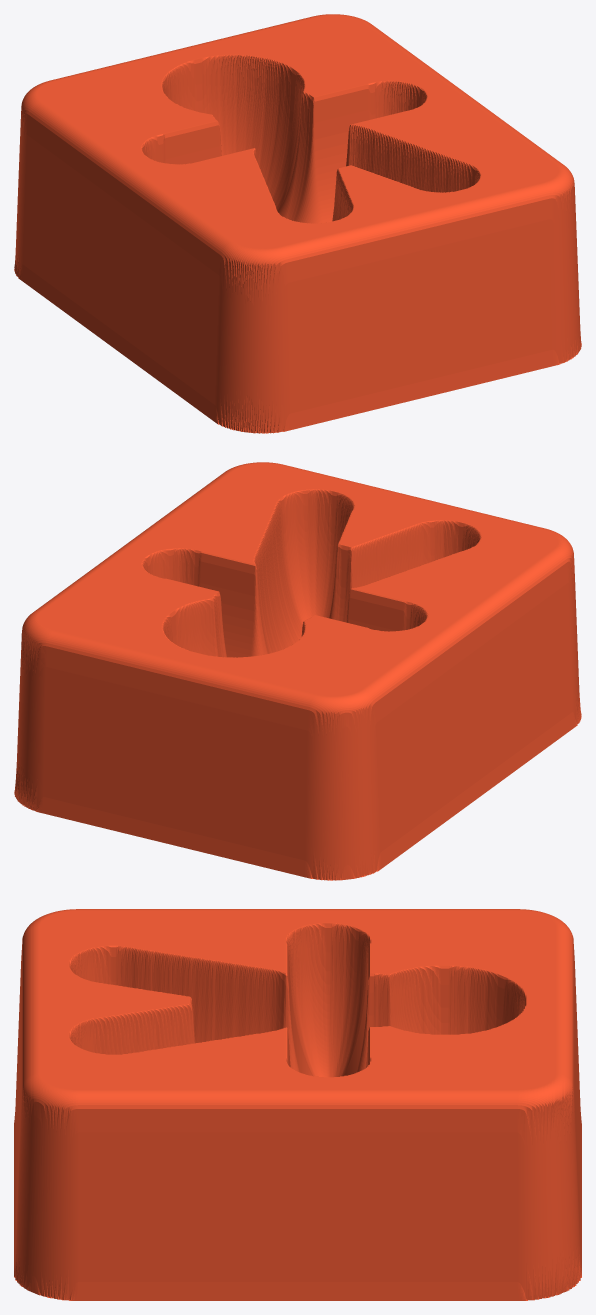
Rendered from mold.glb.
3 views of the same model, one above another, from view 1: azimuth 30°, elevation 25°; view 2: azimuth 150°, elevation 25°; view 3: azimuth 270°, elevation 25° (orthographic). The views are drawn at different scales.
Visible parts, largest first — view 1: geometry_0; view 2: geometry_0; view 3: geometry_0.
Part boxes in pixels (x1,y1,x2,y2): geometry_0: (14,14,581,433); geometry_0: (14,462,581,880); geometry_0: (14,909,581,1300).
Bounding box in the file's own units: 0.0668 × 0.031 × 0.0798.
